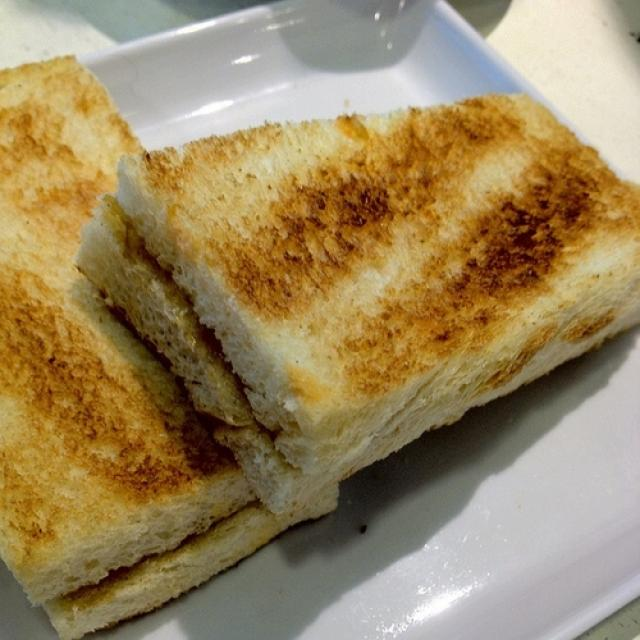面包点心: (2, 26, 620, 626)
